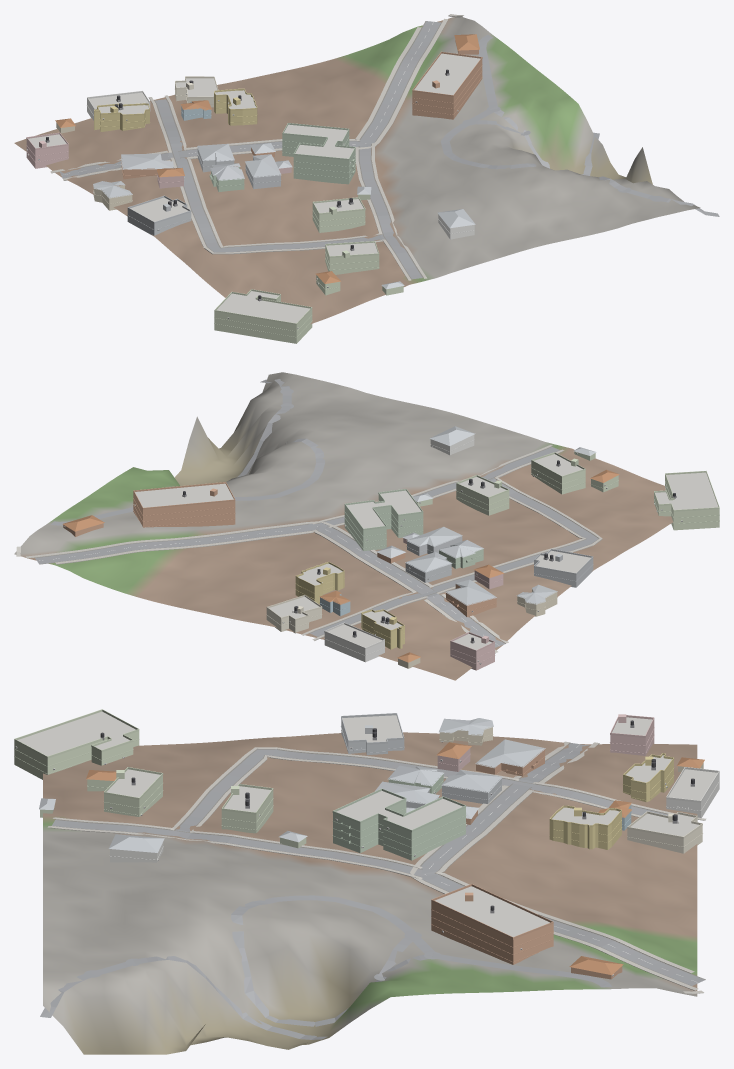
3 views of the same model, one above another, from view 1: azimuth 30°, elevation 25°; view 2: azimuth 150°, elevation 25°; view 3: azimuth 270°, elevation 25° (orthographic). The views are drawn at different scales.
Parts seen in each view (by area): view 1: Terrain-col, Buildings-col, Roads-col, Details, Sidewalks-col; view 2: Terrain-col, Buildings-col, Roads-col, Details, Sidewalks-col; view 3: Terrain-col, Buildings-col, Roads-col, Details, Sidewalks-col.
Part boxes in pixels (<box>): Terrain-col: <box>14,17,700,324</box>; Buildings-col: <box>26,34,482,343</box>; Roads-col: <box>60,21,719,279</box>; Details: <box>26,51,482,337</box>; Sidewalks-col: <box>50,14,463,280</box>; Terrain-col: <box>14,372,673,680</box>; Buildings-col: <box>62,426,719,670</box>; Roads-col: <box>35,379,598,647</box>; Details: <box>64,440,719,664</box>; Sidewalks-col: <box>16,445,602,653</box>; Terrain-col: <box>43,732,697,1054</box>; Buildings-col: <box>14,711,719,979</box>; Roads-col: <box>40,742,705,1039</box>; Details: <box>14,709,719,976</box>; Sidewalks-col: <box>47,741,706,993</box>.
Size of the model in its own units: 278 by 39.7 by 276.
